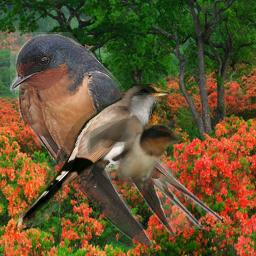Cuckoo: (16, 84, 171, 227)
Swallow: (10, 32, 222, 247), (84, 113, 179, 190)
